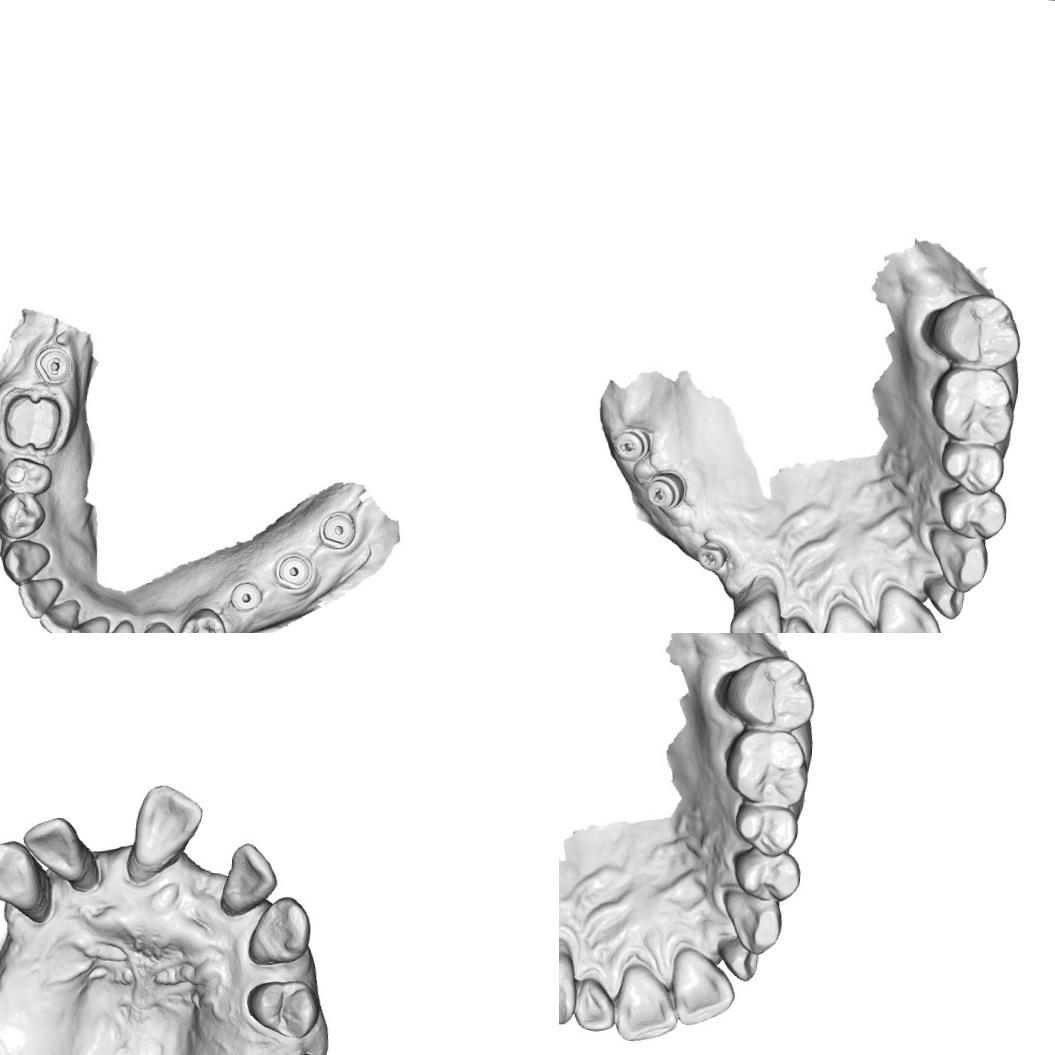canine: (244, 891, 314, 970), (924, 526, 994, 596), (718, 888, 788, 958), (0, 836, 47, 914), (725, 574, 785, 633), (0, 537, 51, 586), (559, 936, 579, 1028), (136, 619, 182, 633)
crown: (0, 386, 66, 454)
implant: (272, 549, 313, 591), (316, 510, 356, 550), (228, 580, 262, 614)
implant_minus: (32, 342, 74, 386), (643, 469, 687, 511), (609, 426, 652, 465)
implant_plus: (692, 538, 730, 574)
incisor: (127, 781, 205, 872), (610, 960, 682, 1046), (667, 945, 740, 1028), (17, 812, 89, 887), (218, 839, 280, 918), (873, 582, 946, 633), (570, 975, 616, 1033), (816, 598, 887, 633), (14, 574, 64, 622), (922, 572, 967, 620), (716, 934, 761, 982), (36, 593, 81, 633), (776, 613, 822, 633), (68, 612, 110, 633), (96, 616, 139, 633)
molar: (918, 288, 1024, 372), (712, 650, 818, 734), (927, 363, 1016, 445), (721, 725, 810, 807)
premolar: (243, 973, 323, 1040), (936, 482, 1008, 542), (730, 844, 802, 903), (938, 439, 1006, 496), (732, 801, 800, 858), (0, 489, 47, 540), (1, 454, 53, 496), (177, 603, 229, 633)
